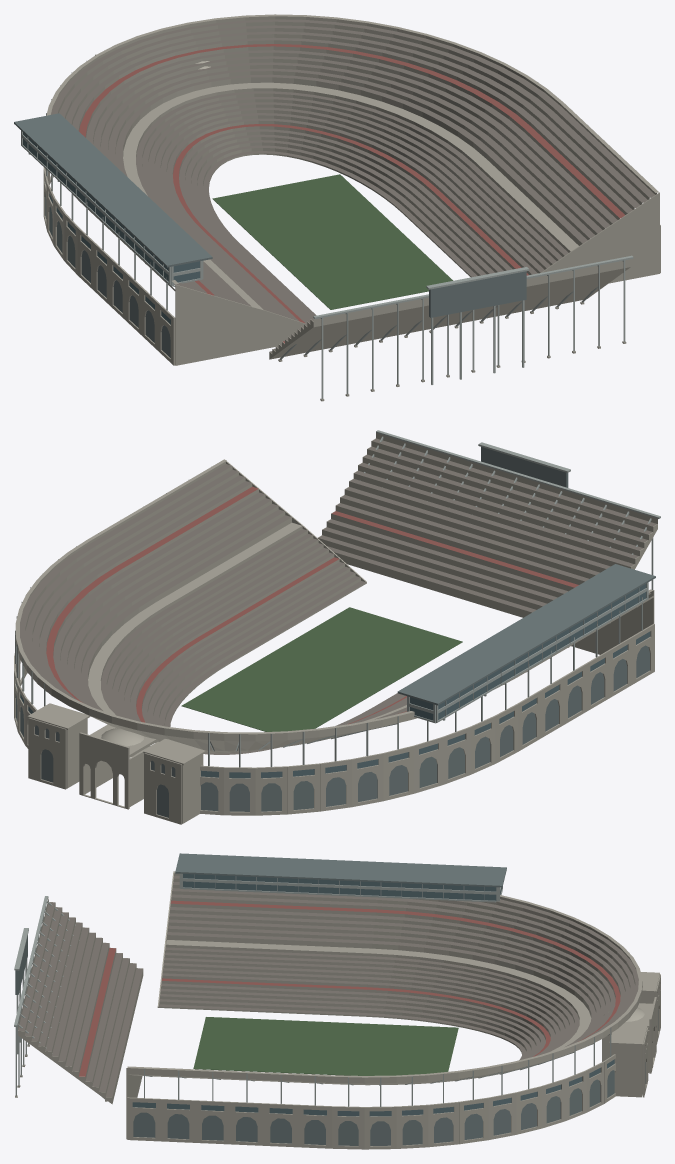
The model's file is ohio-stadium-far.glb.
The picture shows the model from 3 angles, top to bottom: view 1: azimuth 30°, elevation 25°; view 2: azimuth 150°, elevation 25°; view 3: azimuth 270°, elevation 25°; orthographic projection. The views are drawn at different scales.
Visible parts, largest first — view 1: ohio-stadium-0-stone, ohio-stadium-0-seat, ohio-stadium-0-field, ohio-stadium-0-roof, ohio-stadium-0-steel, ohio-stadium-0-red, ohio-stadium-0-glass; view 2: ohio-stadium-0-stone, ohio-stadium-0-seat, ohio-stadium-0-roof, ohio-stadium-0-field, ohio-stadium-0-steel, ohio-stadium-0-glass, ohio-stadium-0-red; view 3: ohio-stadium-0-stone, ohio-stadium-0-seat, ohio-stadium-0-roof, ohio-stadium-0-field, ohio-stadium-0-glass, ohio-stadium-0-steel, ohio-stadium-0-red.
Boxes of the visible parts, bbox=[...] form: ohio-stadium-0-stone: bbox=[43, 14, 660, 401]; ohio-stadium-0-seat: bbox=[51, 19, 654, 353]; ohio-stadium-0-field: bbox=[212, 174, 452, 309]; ohio-stadium-0-roof: bbox=[14, 113, 526, 357]; ohio-stadium-0-steel: bbox=[21, 72, 652, 399]; ohio-stadium-0-red: bbox=[79, 44, 624, 343]; ohio-stadium-0-glass: bbox=[23, 132, 199, 324]; ohio-stadium-0-stone: bbox=[14, 433, 657, 824]; ohio-stadium-0-seat: bbox=[20, 438, 656, 754]; ohio-stadium-0-roof: bbox=[16, 447, 655, 817]; ohio-stadium-0-field: bbox=[181, 607, 462, 731]; ohio-stadium-0-steel: bbox=[15, 430, 660, 767]; ohio-stadium-0-glass: bbox=[16, 584, 650, 778]; ohio-stadium-0-red: bbox=[46, 486, 578, 724]; ohio-stadium-0-stone: bbox=[15, 871, 660, 1149]; ohio-stadium-0-seat: bbox=[18, 875, 638, 1097]; ohio-stadium-0-roof: bbox=[15, 853, 658, 1145]; ohio-stadium-0-field: bbox=[193, 1017, 458, 1075]; ohio-stadium-0-glass: bbox=[132, 874, 614, 1116]; ohio-stadium-0-steel: bbox=[14, 873, 611, 1106]; ohio-stadium-0-red: bbox=[79, 900, 620, 1076].
Size of the model in its own units: 214 by 41.45 by 279.
